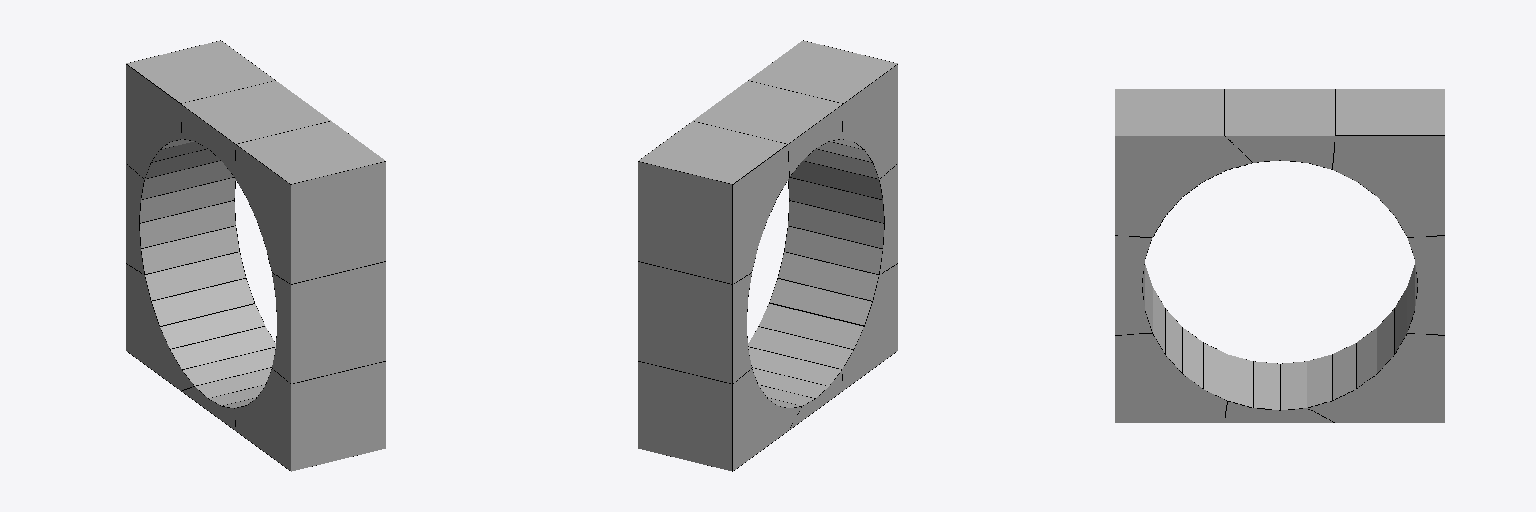
The picture shows the model from 3 angles: view 1: azimuth 30°, elevation 25°; view 2: azimuth 150°, elevation 25°; view 3: azimuth 270°, elevation 25°; orthographic projection.
Visible parts, largest first — view 1: frame_Cube; view 2: frame_Cube; view 3: frame_Cube.
Part boxes in pixels (left/top/right/bottom): frame_Cube: left=126, top=40, right=385, bottom=471; frame_Cube: left=638, top=40, right=897, bottom=471; frame_Cube: left=1115, top=89, right=1444, bottom=422.
Size of the model in its own units: 2 by 5.75 by 6.
Materials: 1 (1 with a texture image).